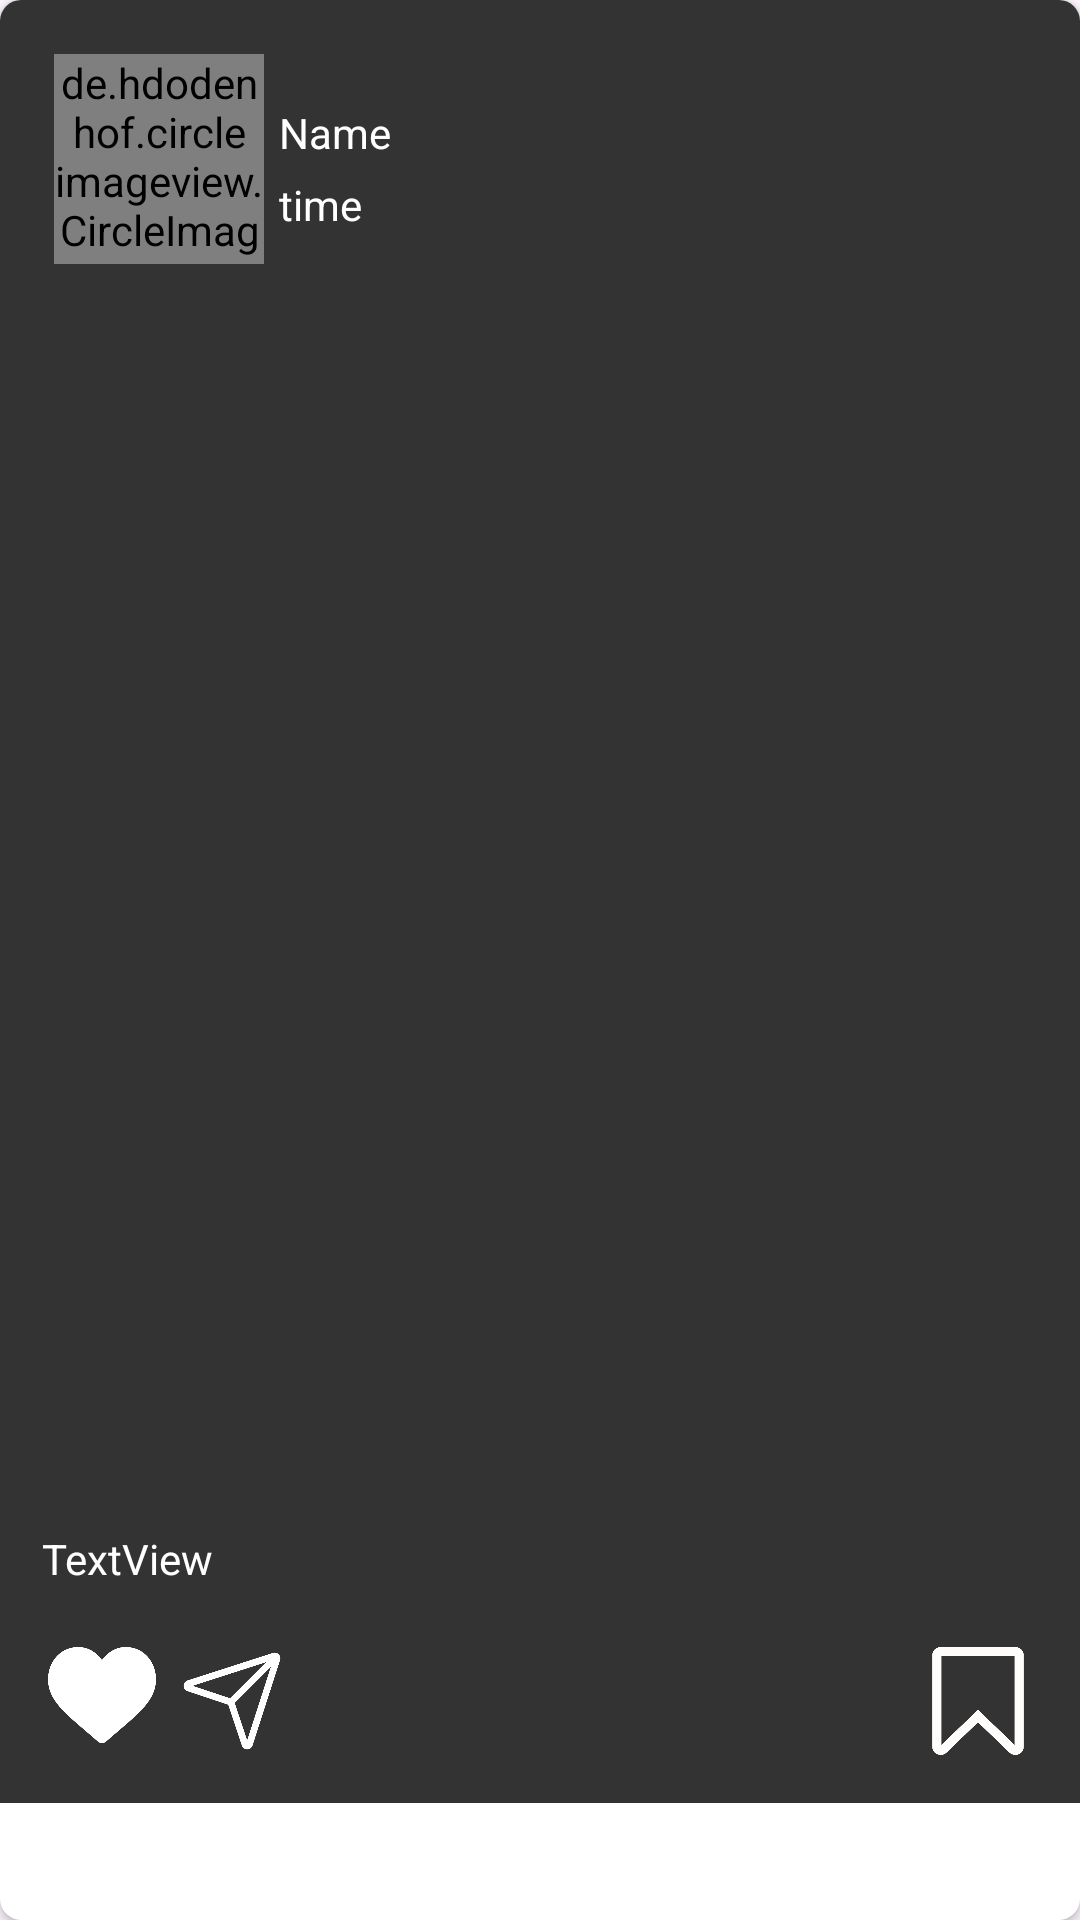

Where to tap for icons on this 1080x1920 app screen, as (x,y):
bookmark: (978,1701)
heart: (102,1695)
send: (232,1701)
